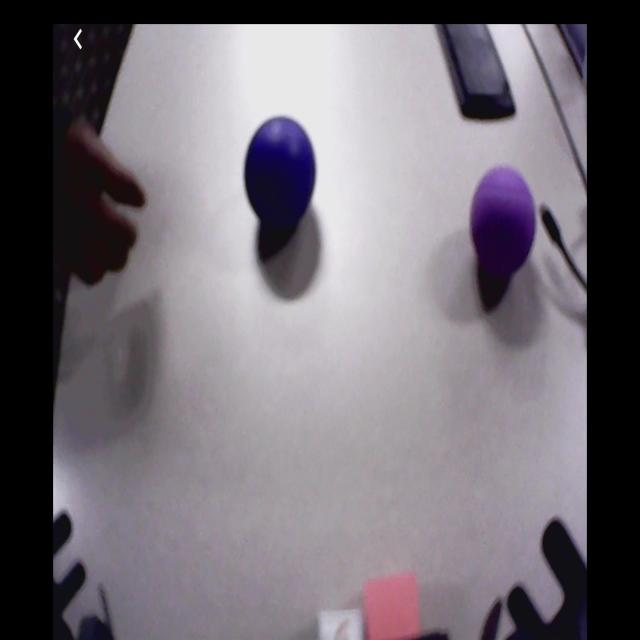ball: (245, 115, 316, 233), (471, 166, 536, 271)
